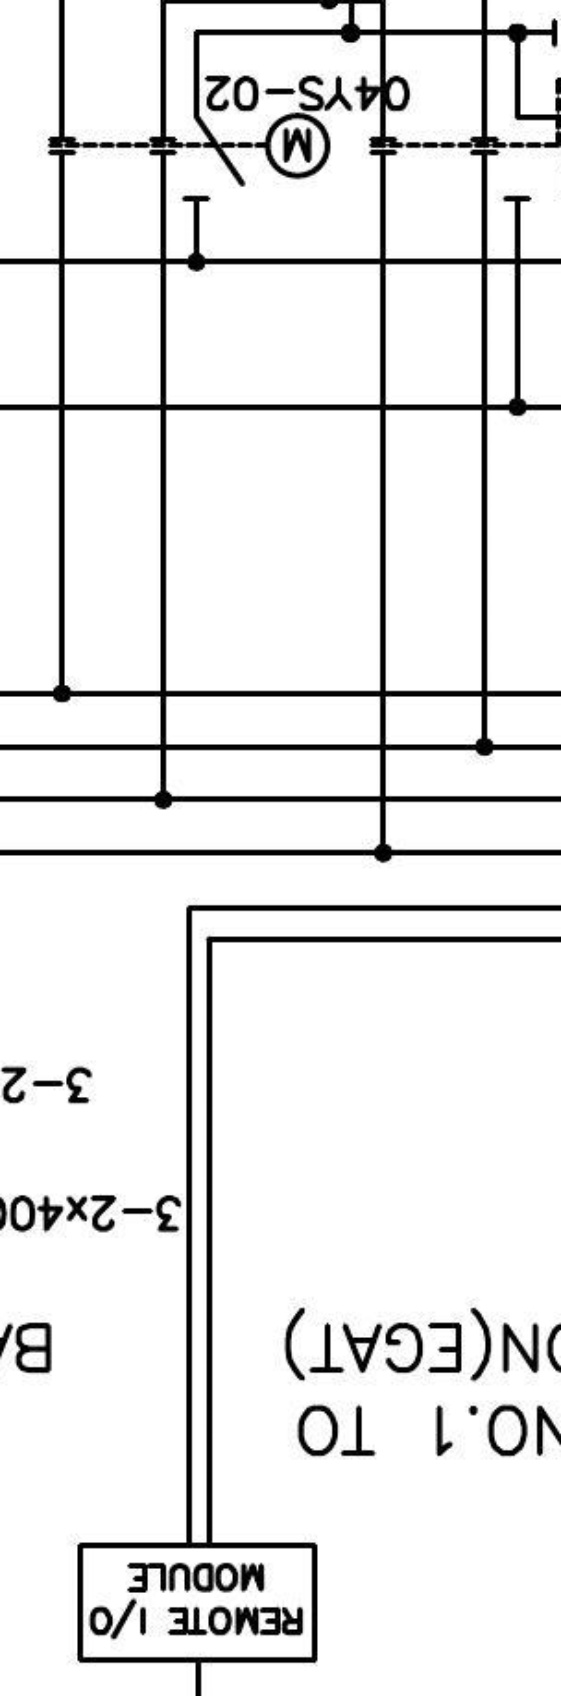115_1way_ds_w_motor: (179, 111, 332, 202)
remote_io_module: (78, 1541, 319, 1662)
